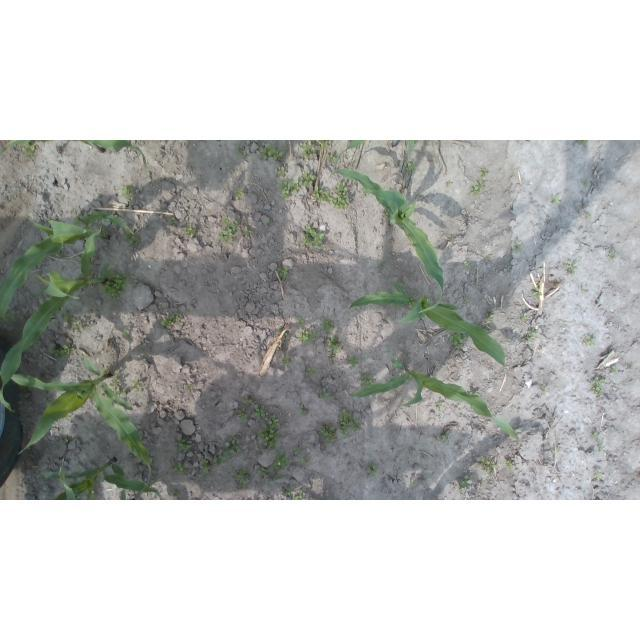Maize: (8, 358, 153, 495), (0, 228, 100, 414), (331, 168, 446, 313), (350, 358, 521, 446), (1, 212, 136, 316), (346, 279, 506, 365), (40, 456, 161, 501), (0, 141, 148, 170), (332, 140, 416, 170)
Weeds: (100, 270, 133, 301), (257, 415, 279, 450), (338, 409, 360, 440), (219, 217, 240, 244), (301, 227, 325, 250), (332, 183, 349, 210), (311, 184, 333, 204), (449, 330, 469, 350), (279, 179, 299, 198), (261, 144, 284, 160), (326, 336, 341, 360), (123, 229, 141, 249), (50, 344, 74, 359), (296, 327, 317, 344), (320, 422, 336, 444), (224, 437, 242, 456), (160, 312, 180, 328), (272, 453, 288, 472), (235, 468, 249, 489), (591, 377, 605, 398), (300, 141, 317, 158), (481, 459, 497, 477), (212, 451, 229, 467), (300, 172, 317, 187), (524, 329, 539, 345), (171, 462, 188, 476), (359, 375, 374, 390), (177, 438, 192, 453), (21, 143, 37, 157), (472, 180, 486, 196), (121, 185, 135, 200), (404, 160, 417, 176), (566, 260, 579, 276), (460, 475, 473, 490), (257, 468, 272, 480), (319, 389, 332, 402), (277, 267, 290, 280), (584, 336, 597, 349), (482, 309, 494, 323), (111, 372, 121, 388), (254, 404, 266, 417), (323, 319, 336, 331), (511, 240, 523, 253), (131, 380, 143, 392), (366, 464, 377, 477), (349, 356, 360, 369), (300, 455, 311, 467), (325, 151, 336, 163), (316, 140, 332, 148), (3, 313, 17, 322), (293, 444, 304, 455), (73, 214, 84, 225), (18, 385, 33, 393), (531, 287, 541, 299), (238, 409, 248, 420), (63, 313, 73, 324), (299, 404, 308, 416), (304, 368, 316, 377), (42, 396, 52, 406), (593, 472, 604, 481), (243, 228, 254, 237), (202, 459, 209, 473), (56, 251, 68, 259), (86, 219, 98, 227), (184, 226, 196, 234), (385, 208, 393, 220), (506, 459, 515, 469), (280, 356, 290, 365), (592, 433, 601, 443), (439, 434, 448, 444), (520, 313, 529, 323), (295, 492, 306, 500), (115, 391, 129, 397), (235, 189, 244, 198), (242, 396, 252, 404), (379, 260, 389, 268), (278, 166, 286, 176), (281, 333, 288, 344), (234, 147, 242, 156), (480, 168, 488, 177), (552, 196, 561, 204), (58, 439, 68, 446), (435, 404, 443, 412), (297, 316, 304, 325), (123, 329, 130, 338), (464, 262, 473, 269), (467, 392, 479, 397), (484, 328, 492, 335), (101, 230, 109, 237), (285, 488, 291, 497), (272, 475, 281, 481), (611, 366, 618, 373), (101, 368, 109, 374), (608, 253, 616, 259), (72, 322, 80, 328), (578, 140, 589, 144), (485, 254, 492, 260), (541, 387, 548, 393), (184, 385, 192, 390), (410, 480, 415, 487), (268, 220, 273, 226), (171, 219, 177, 224), (582, 180, 587, 186), (464, 298, 469, 304), (279, 327, 284, 332), (600, 446, 605, 451), (392, 253, 397, 258), (551, 451, 555, 456), (172, 492, 176, 497), (583, 289, 588, 292), (16, 152, 19, 156)
